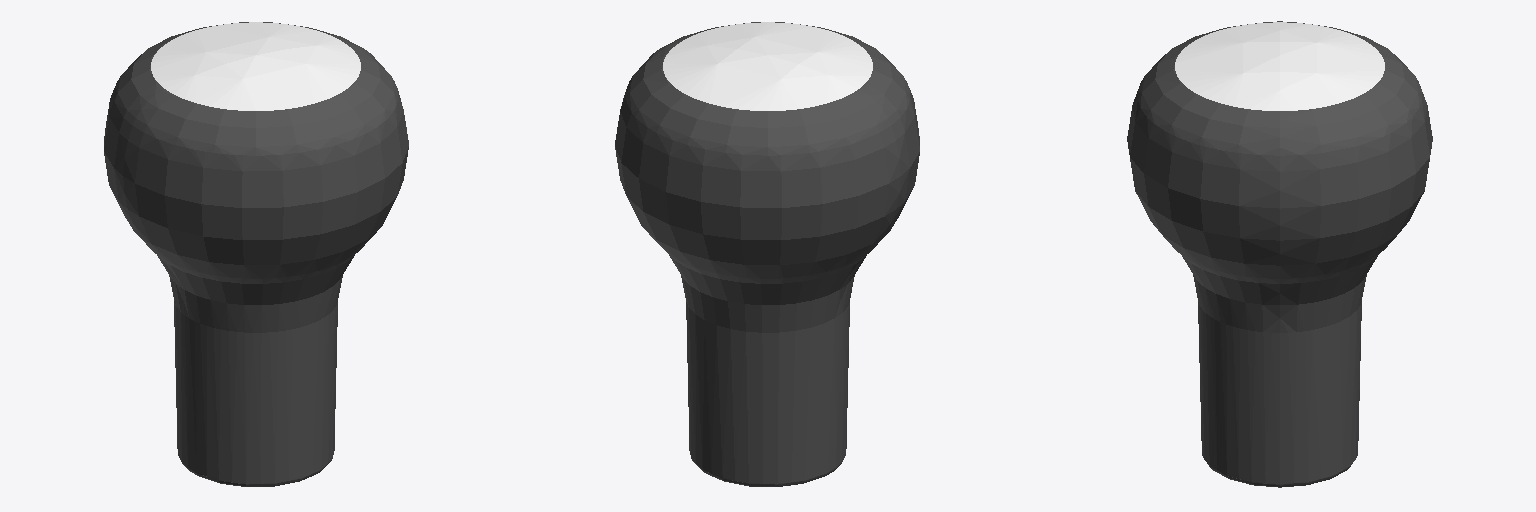
The picture shows the model from 3 angles: view 1: azimuth 30°, elevation 25°; view 2: azimuth 150°, elevation 25°; view 3: azimuth 270°, elevation 25°; orthographic projection.
Parts seen in each view (by area): view 1: gn_718_1-45-65-b12-t_1; view 2: gn_718_1-45-65-b12-t_1; view 3: gn_718_1-45-65-b12-t_1.
Part boxes in pixels (bbox=[...]): gn_718_1-45-65-b12-t_1: bbox=[104, 22, 408, 486]; gn_718_1-45-65-b12-t_1: bbox=[615, 22, 919, 486]; gn_718_1-45-65-b12-t_1: bbox=[1127, 21, 1432, 487].
Bounding box in the file's own units: 45 × 65 × 44.9.